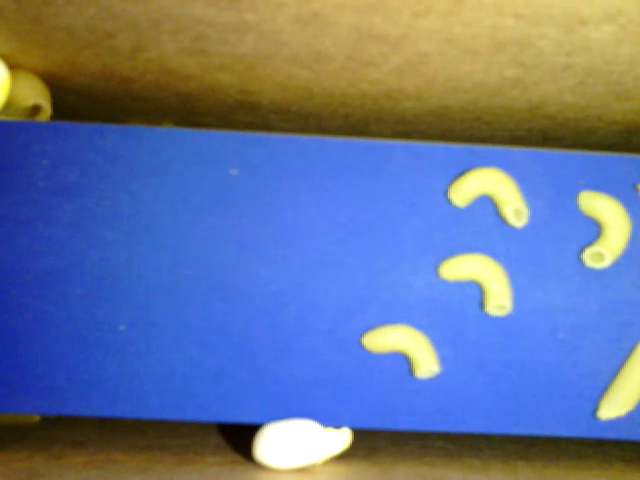elbow: (444, 165, 531, 231), (437, 250, 514, 318), (361, 320, 440, 384), (574, 187, 630, 269)
penne: (594, 349, 639, 423)
shell: (1, 64, 57, 127)
